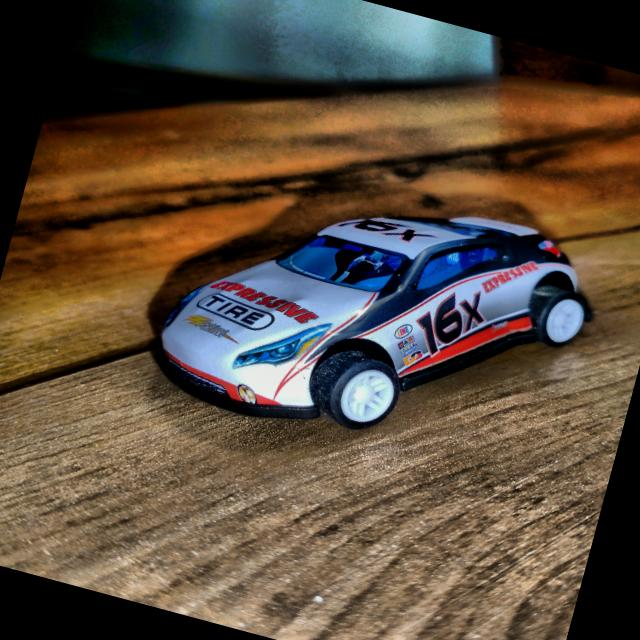Car: (147, 144, 608, 494)
